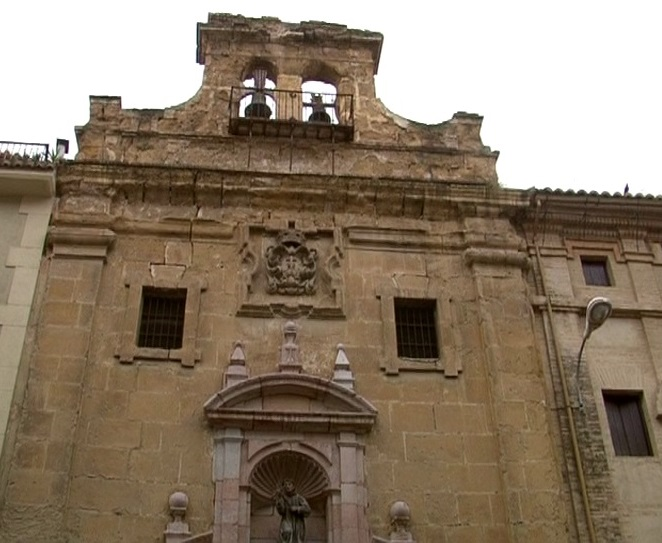fronton-curvo: (200, 370, 382, 434)
